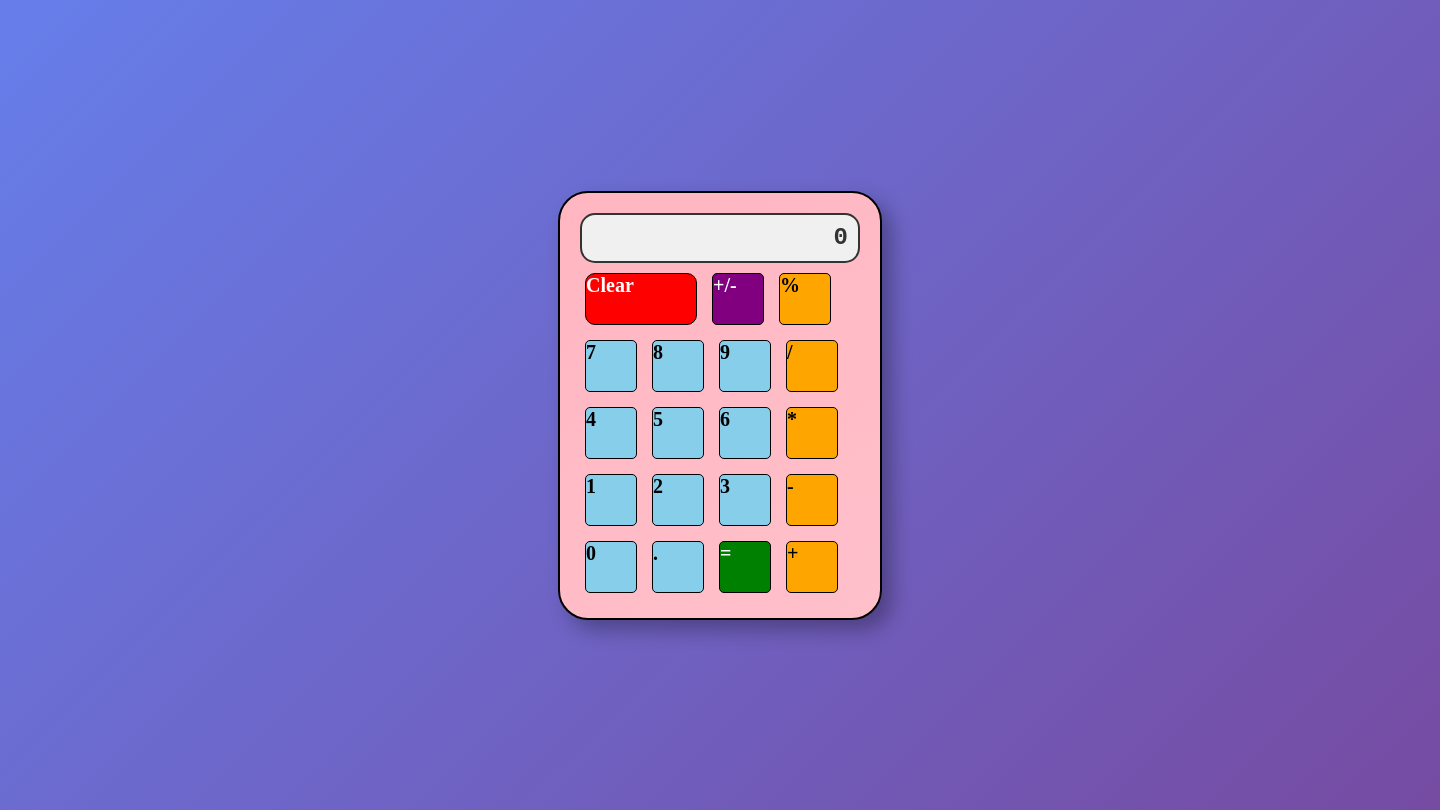
Calculator Tests › should input numbers correctly
Click the text "1" at (611, 500), box [585,474,637,526]
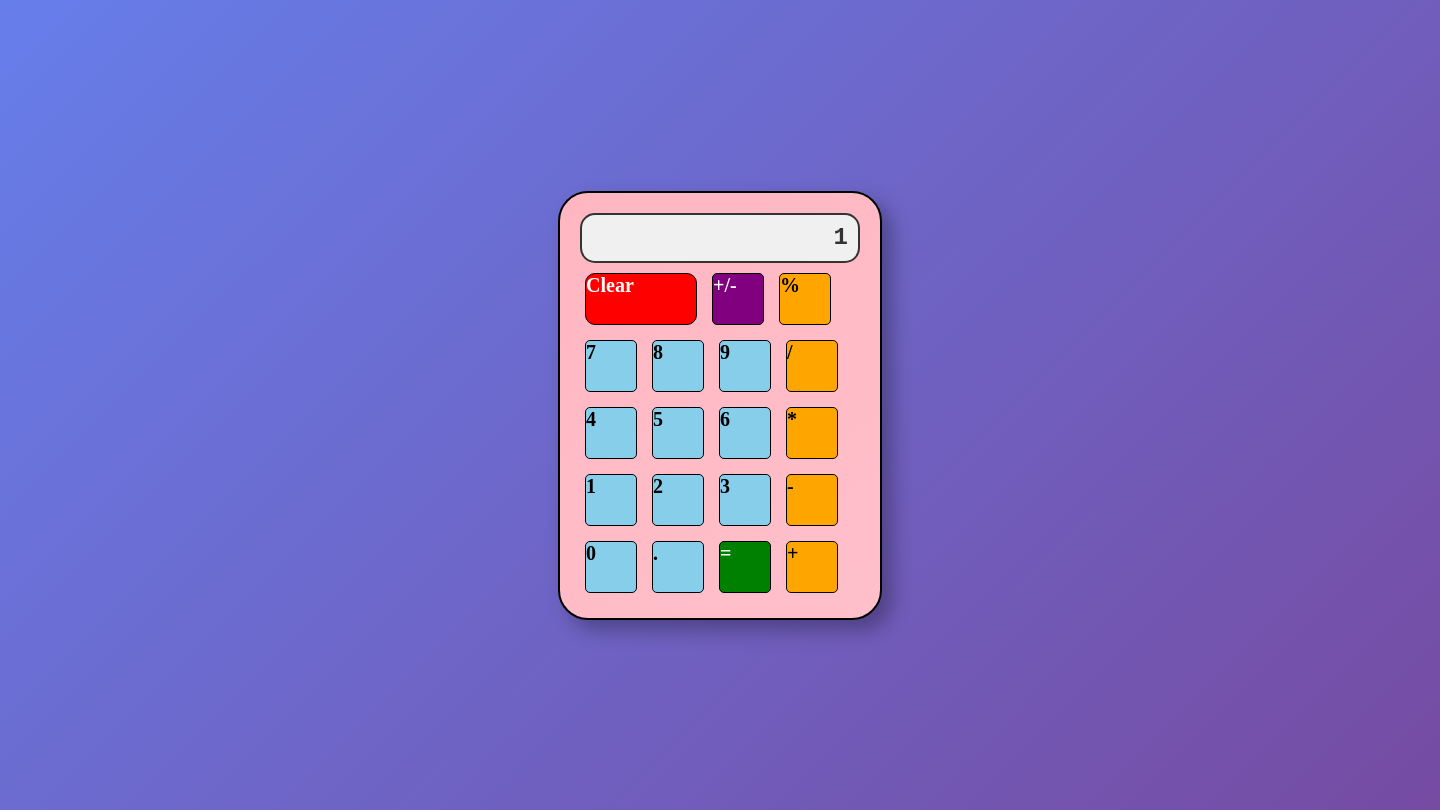
Click the text "2" at (678, 500), box [652,474,704,526]
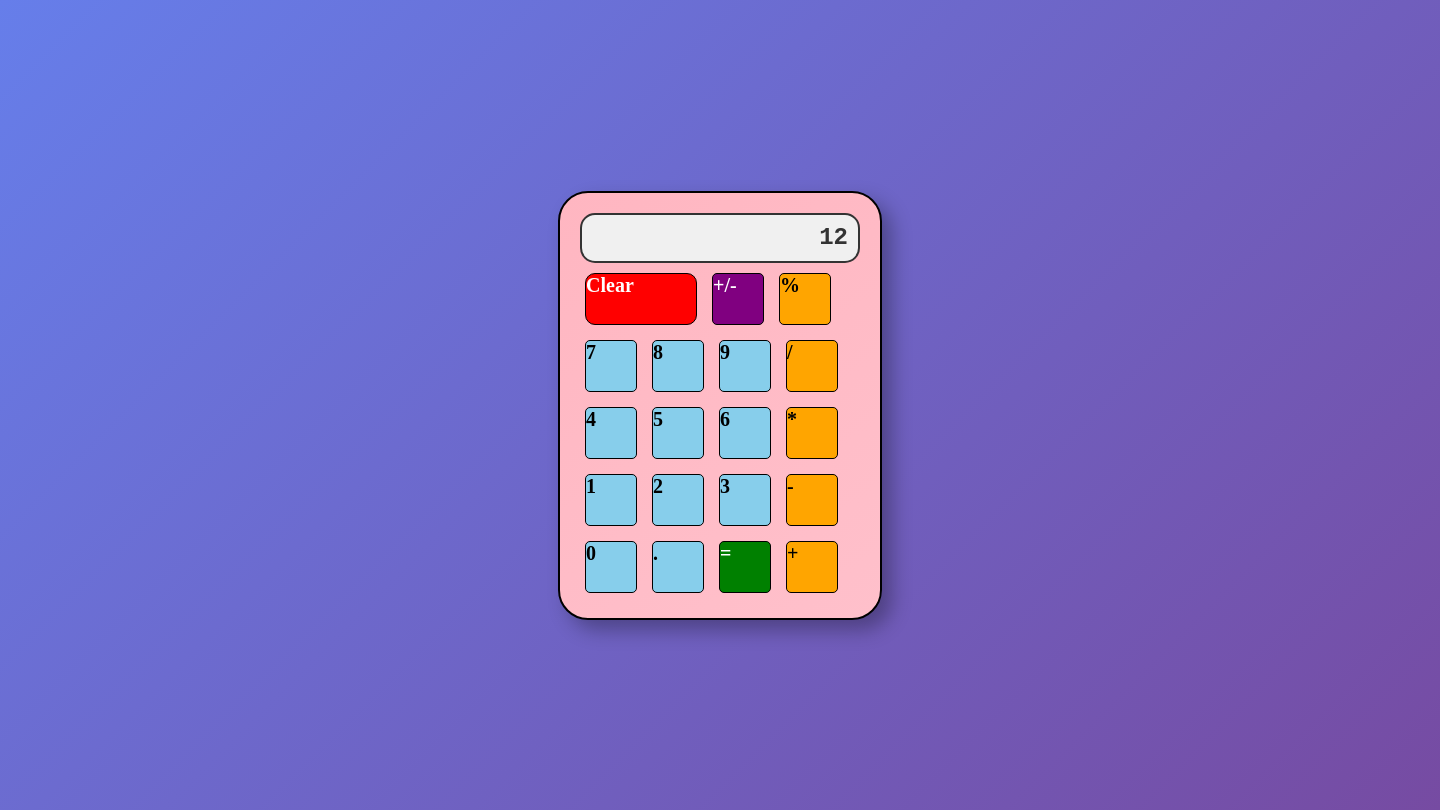
Click the text "3" at (745, 500), box [719,474,771,526]
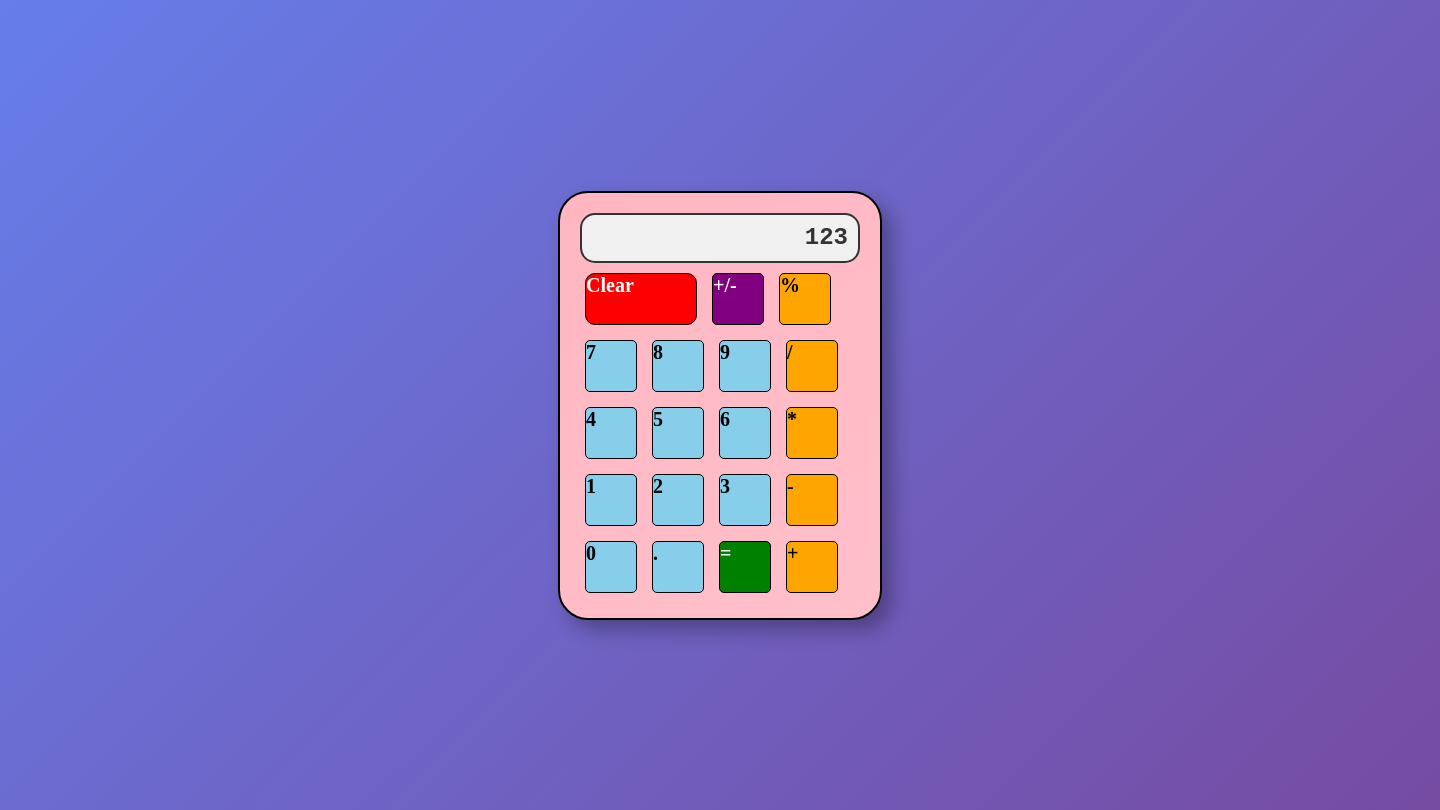
Result: the field showing "123" is shown at [580,212,860,262]
